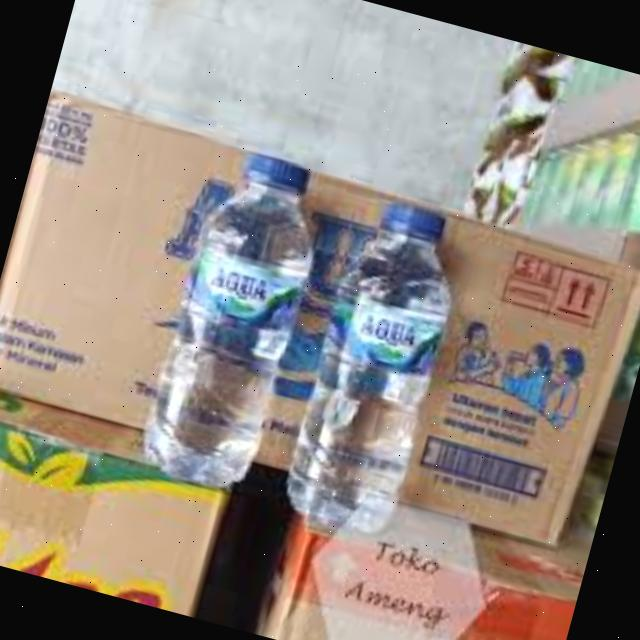trash: (131, 138, 338, 500), (274, 183, 480, 544)
